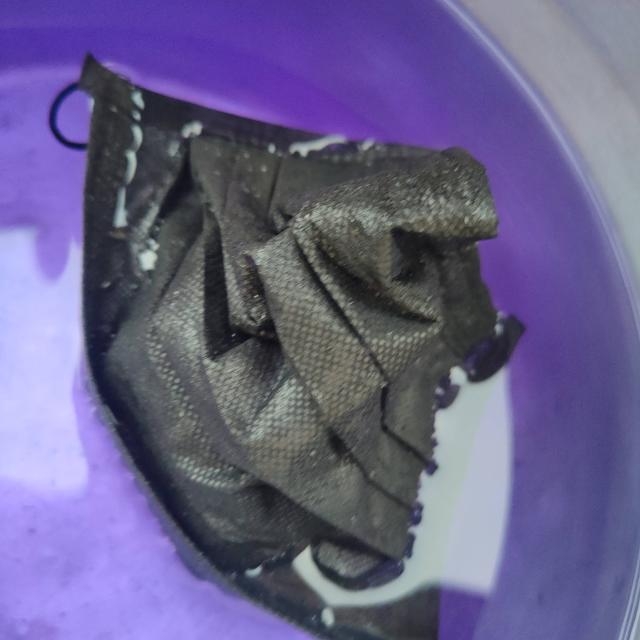litter: (68, 43, 539, 638)
